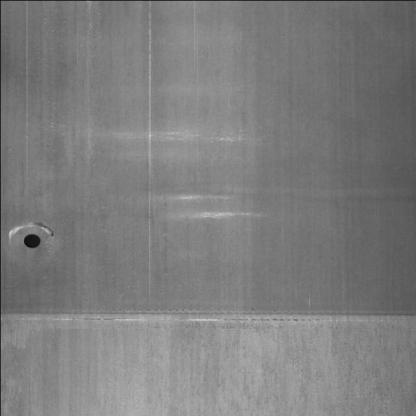punching_hole: (21, 228, 43, 252)
welding_line: (2, 299, 413, 332)
